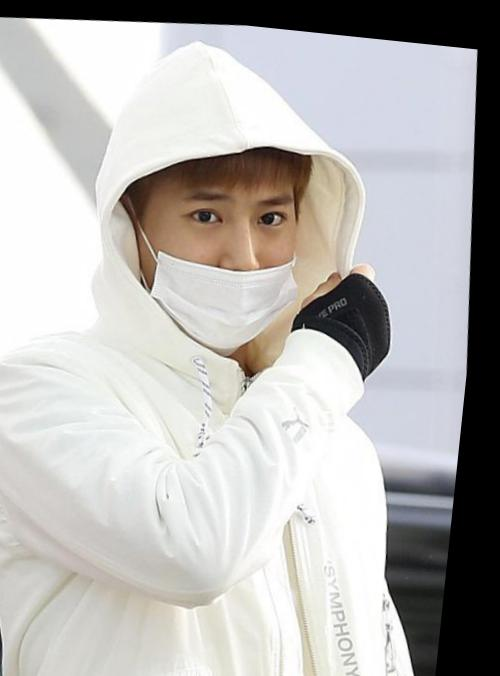WRONG: (139, 156, 314, 345)
